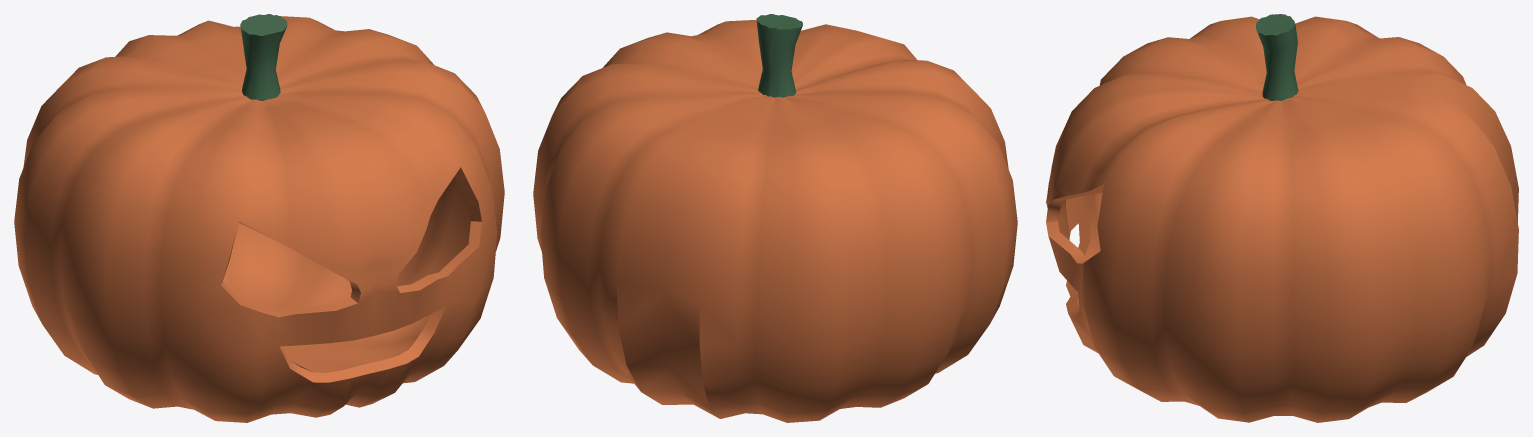
File: pumpkin.glb
The picture shows the model from 3 angles, left to right: view 1: azimuth 30°, elevation 25°; view 2: azimuth 150°, elevation 25°; view 3: azimuth 270°, elevation 25°; orthographic projection.
Visible parts, largest first — view 1: citrouille_orange_0, vert_green_0; view 2: citrouille_orange_0, vert_green_0; view 3: citrouille_orange_0, vert_green_0.
Part boxes in pixels (x1=…): citrouille_orange_0: x1=14, y1=16, x2=504, y2=422; vert_green_0: x1=240, y1=14, x2=287, y2=100; citrouille_orange_0: x1=533, y1=19, x2=1017, y2=422; vert_green_0: x1=756, y1=14, x2=802, y2=97; citrouille_orange_0: x1=1046, y1=16, x2=1518, y2=422; vert_green_0: x1=1256, y1=14, x2=1298, y2=100.
Bounding box in the file's own units: 1.97 × 1.52 × 1.92.
